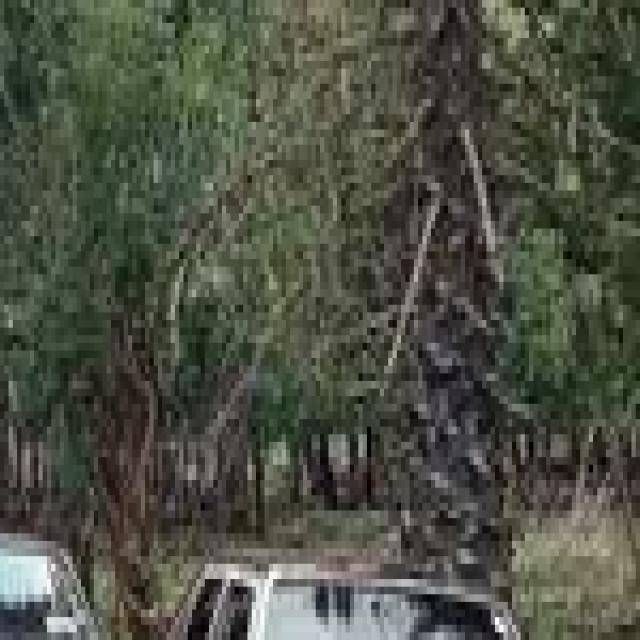car: (141, 533, 640, 640), (0, 495, 128, 640)
